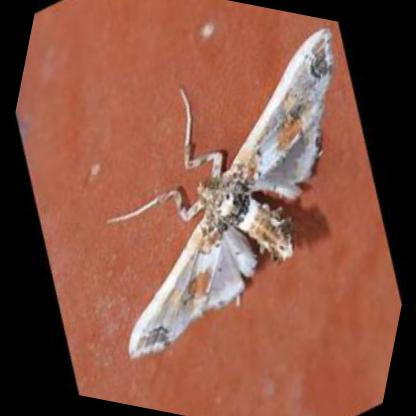leucinodes: (125, 29, 330, 357)
